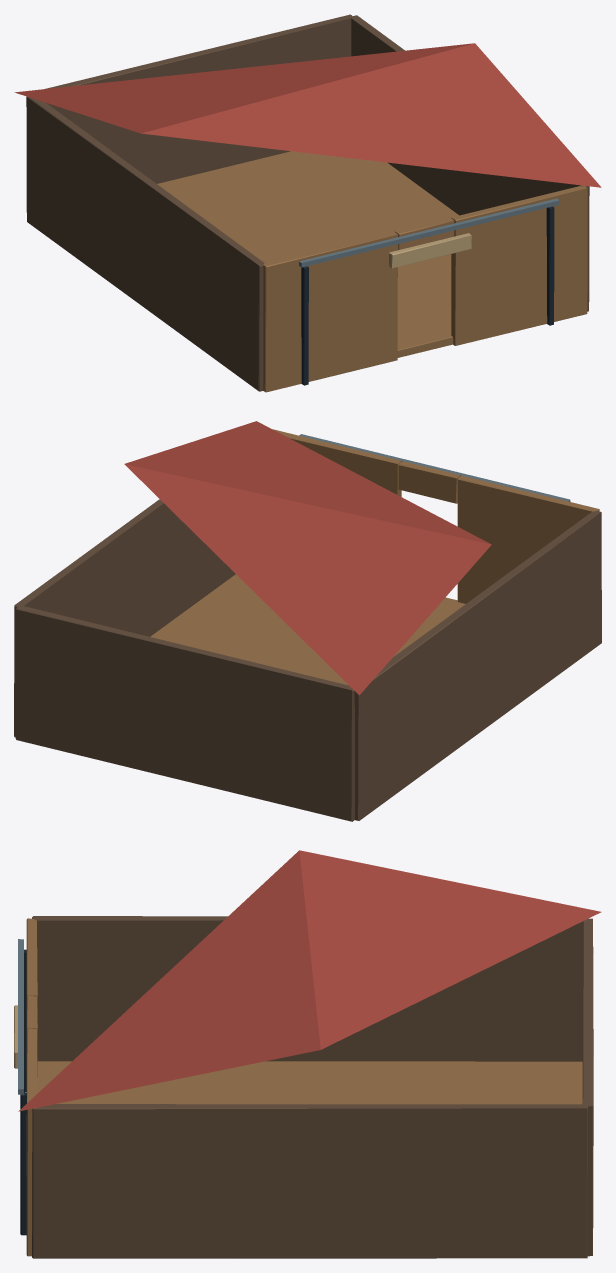
Rendered from harbor-warehouse.lod1.glb.
3 renders of one model, top to bottom at view 1: azimuth 30°, elevation 25°; view 2: azimuth 150°, elevation 25°; view 3: azimuth 270°, elevation 25°, orthographic. The views are drawn at different scales.
Visible parts, largest first — view 1: harbor-warehouse__body, harbor-warehouse__roof, harbor-warehouse__front-wall; view 2: harbor-warehouse__body, harbor-warehouse__roof, harbor-warehouse__front-wall; view 3: harbor-warehouse__body, harbor-warehouse__roof, harbor-warehouse__front-wall.
Part boxes in pixels (bbox=[...]): harbor-warehouse__body: bbox=[26, 14, 589, 391]; harbor-warehouse__roof: bbox=[14, 43, 601, 187]; harbor-warehouse__front-wall: bbox=[263, 185, 587, 392]; harbor-warehouse__body: bbox=[14, 434, 601, 821]; harbor-warehouse__roof: bbox=[124, 421, 491, 695]; harbor-warehouse__front-wall: bbox=[272, 429, 599, 603]; harbor-warehouse__body: bbox=[14, 916, 593, 1258]; harbor-warehouse__roof: bbox=[18, 850, 601, 1111]; harbor-warehouse__front-wall: bbox=[26, 918, 37, 1256].
Bounding box in the file's own units: 8.5 × 4.22 × 10.57.
